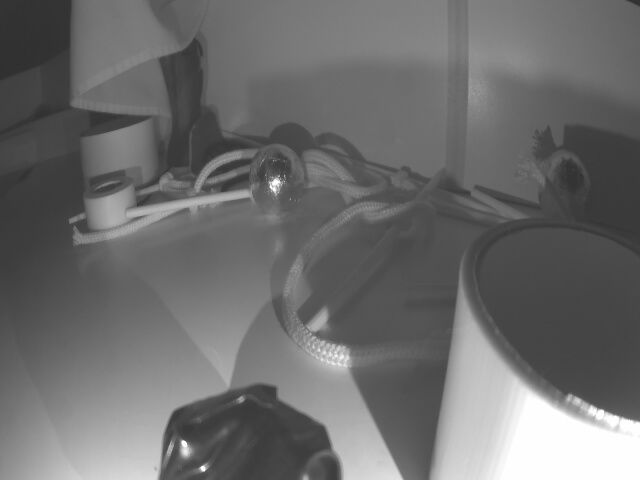Dead: (171, 382, 337, 480)
Live: (252, 143, 306, 216), (538, 149, 589, 220)
Point: (0, 104, 85, 173)
